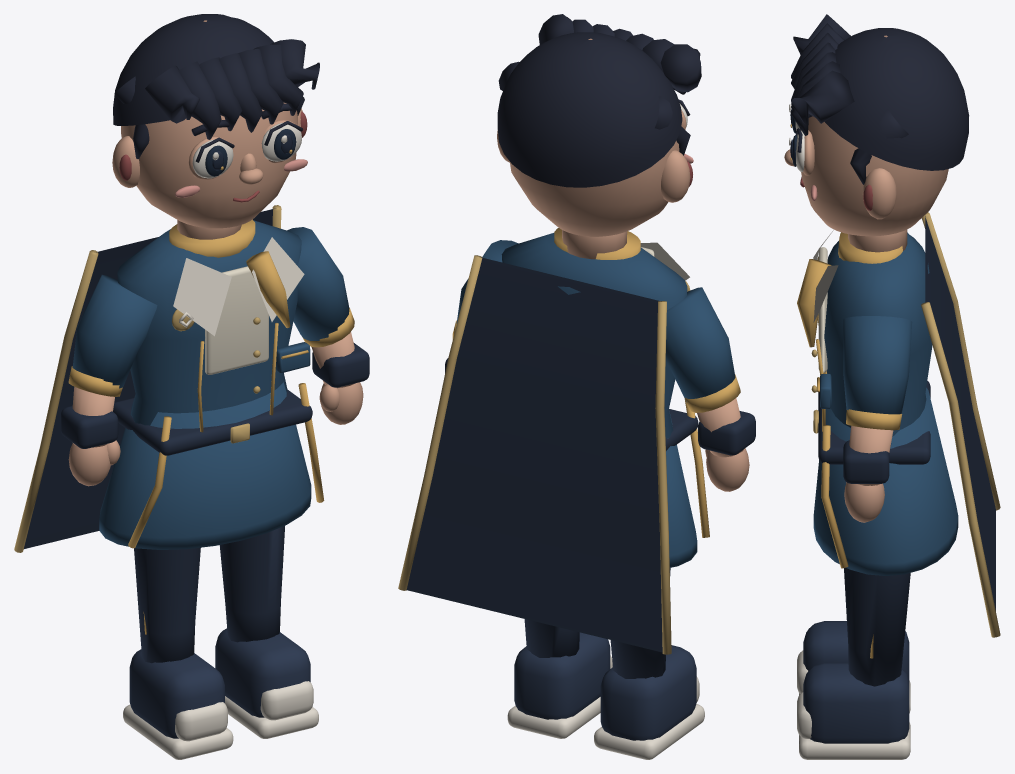
Rendered from xingyin-characters-v1__trainer_lieutenant.glb.
3 views of the same model, side by side, from view 1: azimuth 30°, elevation 25°; view 2: azimuth 150°, elevation 25°; view 3: azimuth 270°, elevation 25° (orthographic).
Visible parts, largest first — view 1: figure.006; view 2: figure.006; view 3: figure.006.
Boxes of the visible parts, bbox=[...] form: figure.006: bbox=[14, 14, 369, 759]; figure.006: bbox=[398, 14, 755, 759]; figure.006: bbox=[784, 14, 1000, 759].
Size of the model in its own units: 1.1 by 2.5 by 0.7093.
